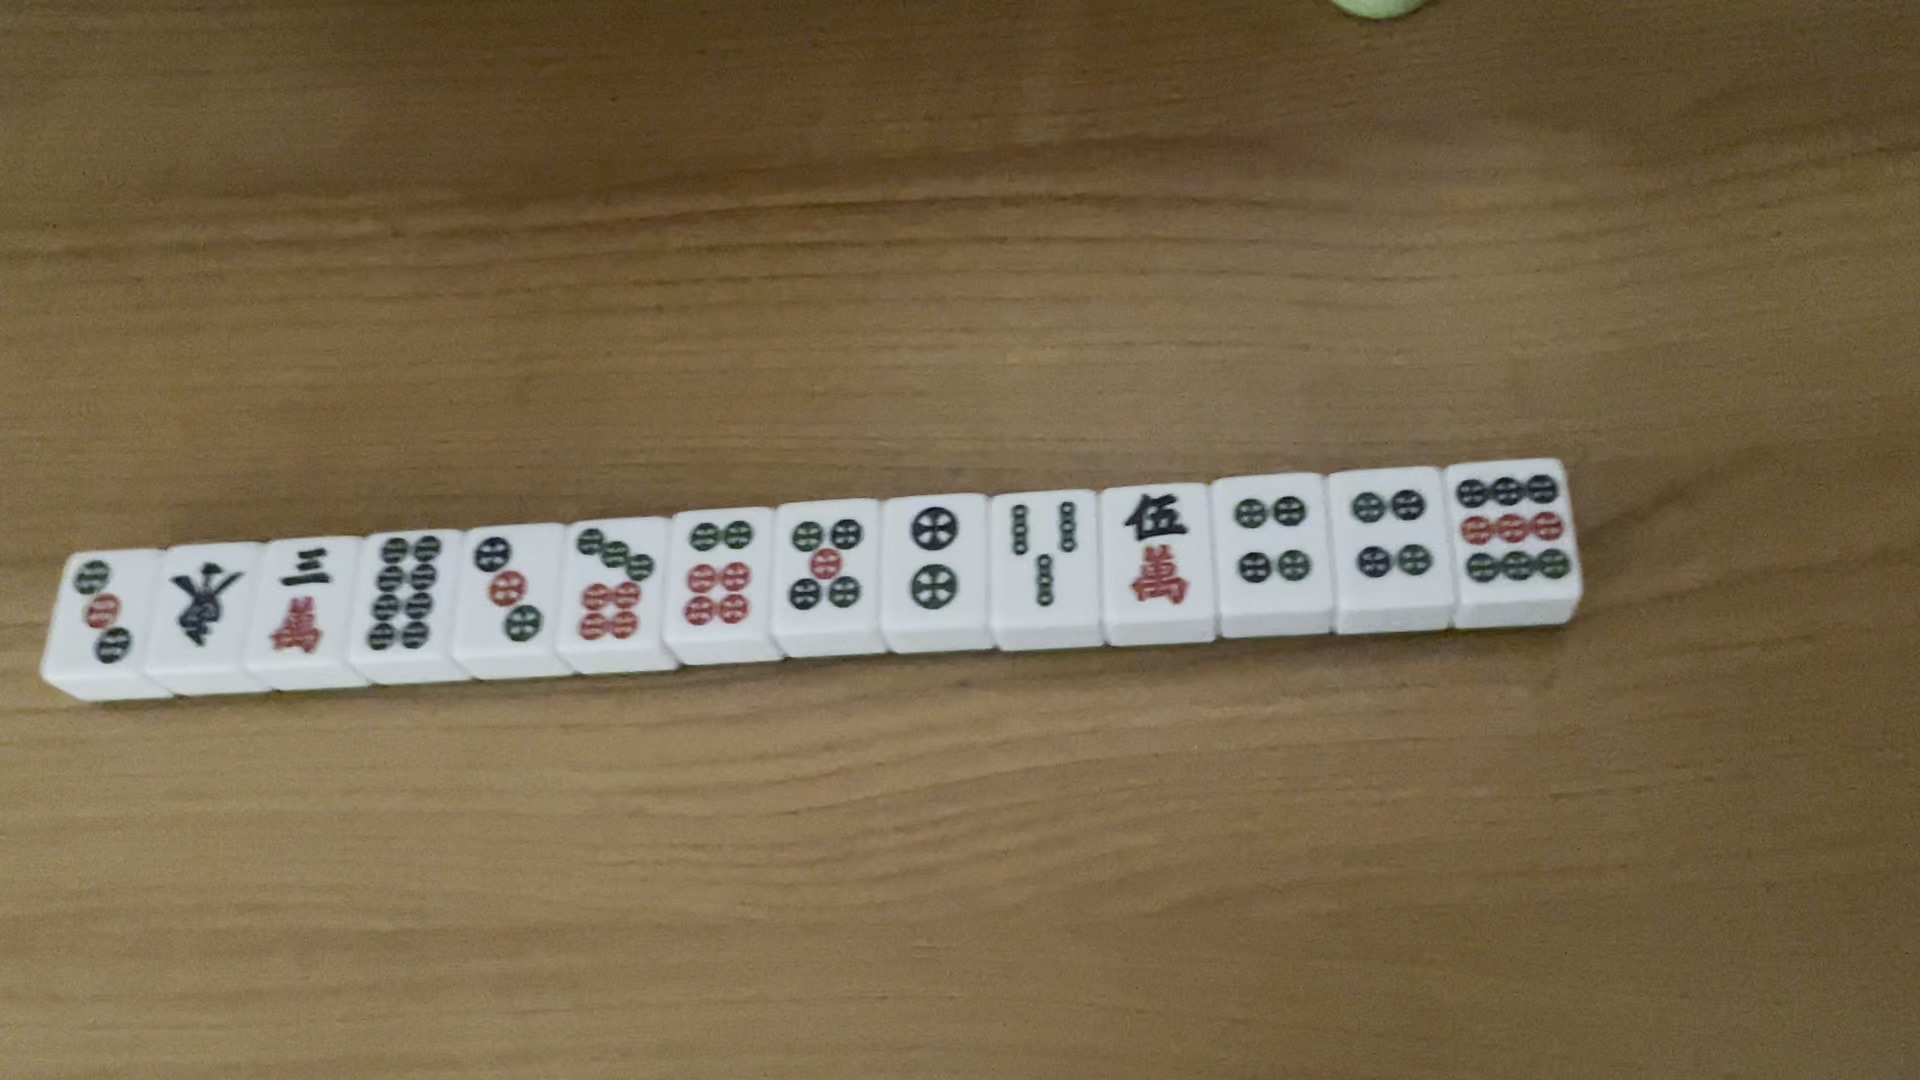b-3: (1000, 498, 1084, 615)
c-3: (261, 546, 342, 655)
c-5: (1113, 487, 1196, 608)
d-2: (894, 504, 965, 615)
d-3: (464, 533, 547, 644), (67, 556, 131, 666)
d-4: (1338, 480, 1437, 591), (1233, 495, 1315, 588)
d-5: (785, 512, 866, 612)
d-6: (680, 518, 756, 630)
d-7: (564, 527, 655, 641)
d-8: (357, 534, 448, 653)
d-9: (1457, 467, 1575, 596)
honors-east: (165, 560, 249, 651)
